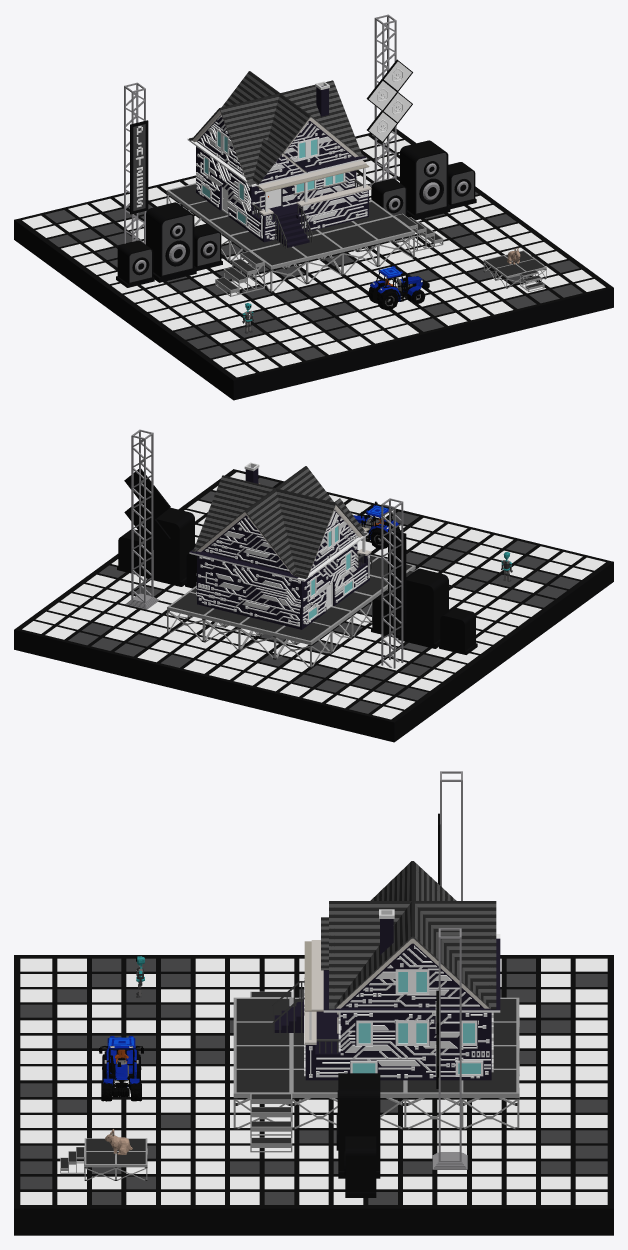
3 renders of one model, top to bottom at view 1: azimuth 30°, elevation 25°; view 2: azimuth 150°, elevation 25°; view 3: azimuth 270°, elevation 25°, orthographic. The views are drawn at different scales.
Parts seen in each view (by area): view 1: Cube.008, Cube.918, VEHICLES_TRACTOR; view 2: Cube.008, Cube.918, VEHICLES_TRACTOR; view 3: Cube.008, Cube.918, VEHICLES_TRACTOR.
Boxes of the visible parts, bbox=[...] form: Cube.008: bbox=[14, 14, 613, 400]; Cube.918: bbox=[187, 71, 371, 248]; VEHICLES_TRACTOR: bbox=[368, 262, 429, 310]; Cube.008: bbox=[14, 429, 613, 742]; Cube.918: bbox=[189, 462, 372, 629]; VEHICLES_TRACTOR: bbox=[353, 501, 400, 549]; Cube.008: bbox=[14, 771, 613, 1235]; Cube.918: bbox=[272, 861, 500, 1080]; VEHICLES_TRACTOR: bbox=[99, 1036, 143, 1101].
Size of the model in its own units: 4000 by 1995 by 4000.
42 materials, 2 textured.
